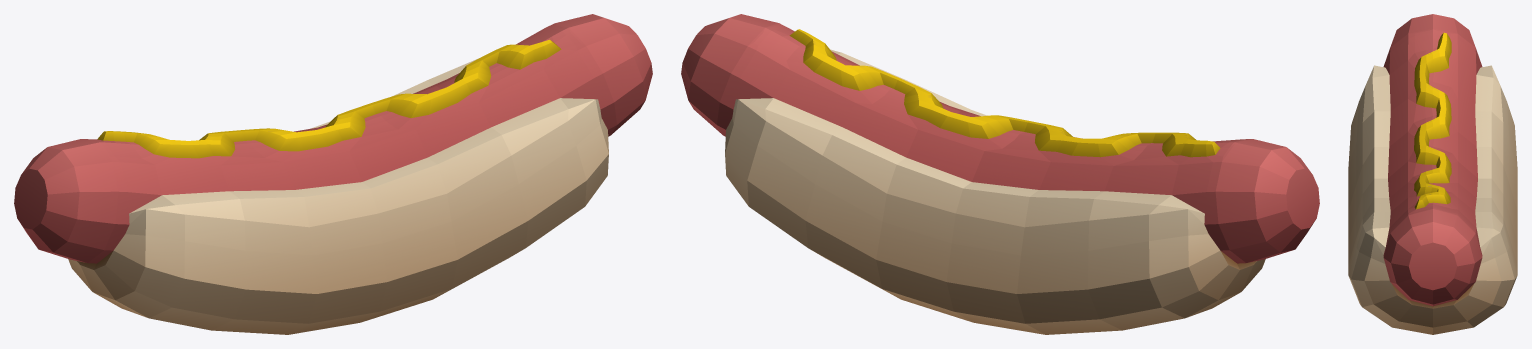
File: SM_Consumable_HotDog.fbx
3 views of the same model, side by side, from view 1: azimuth 30°, elevation 25°; view 2: azimuth 150°, elevation 25°; view 3: azimuth 270°, elevation 25° (orthographic). The views are drawn at different scales.
Parts seen in each view (by area): view 1: Object001; view 2: Object001; view 3: Object001.
Part boxes in pixels (left/top/right/bottom): Object001: left=14, top=14, right=652, bottom=334; Object001: left=681, top=14, right=1319, bottom=334; Object001: left=1348, top=14, right=1517, bottom=334.
Bounding box in the file's own units: 31.95 × 11.31 × 9.64.
1 material, 1 textured.
